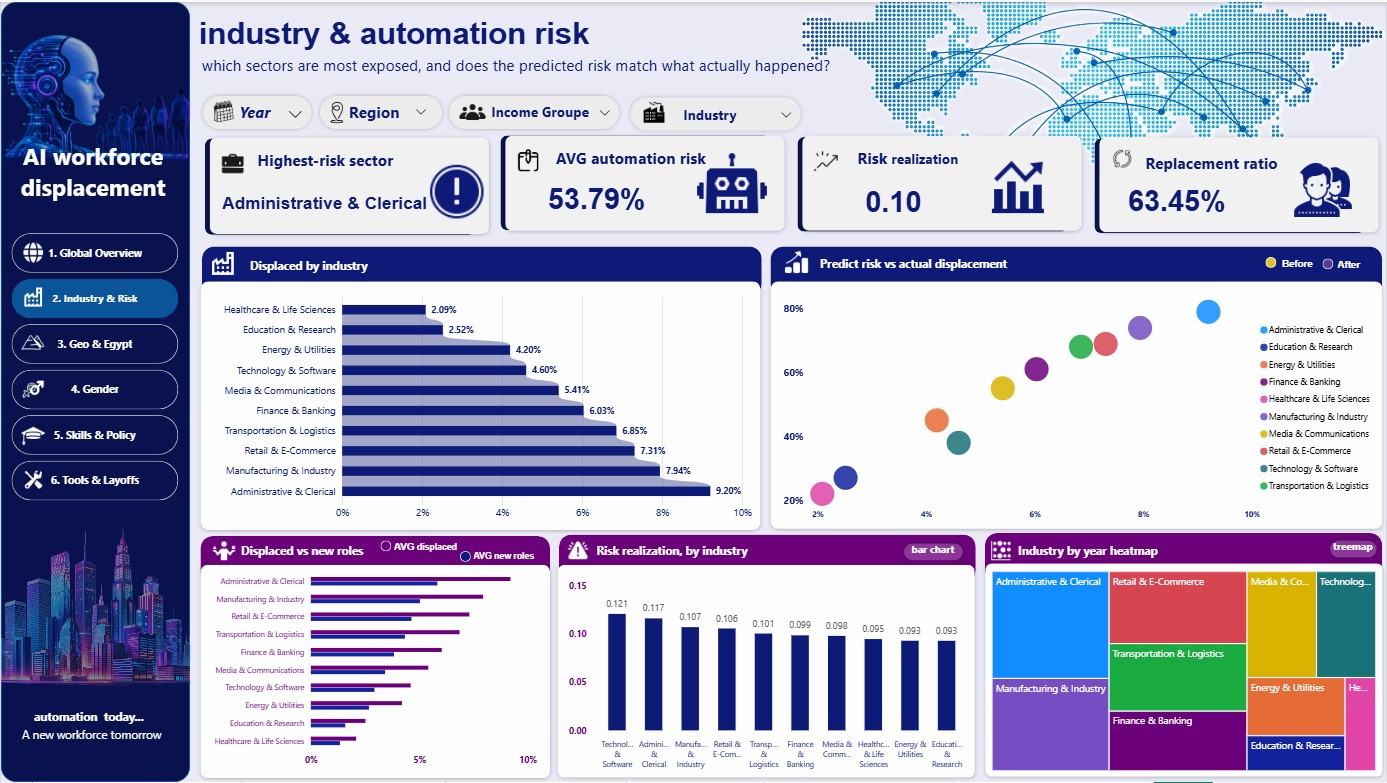

What the dashboard file says about the page in this screenshot:
{"tool":"powerbi","page":{"name":"2. Industry & Risk","canvas":[1920,1080],"ordinal":1},"visuals":[{"type":"shape","box":[282.6,188,374.6,133.3],"z":0},{"type":"shape","box":[692,185,374,131],"z":1000},{"type":"shape","box":[1102,186.1,374,131],"z":2000},{"type":"image","box":[1103,0,818,312.5],"z":3000},{"type":"shape","box":[1514,188.4,374,131],"z":4000},{"type":"shape","box":[0,0,261.7,1080],"z":5000},{"type":"textbox","box":[273.5,18.7,776.1,70.1],"z":6000},{"type":"shape","box":[274.4,124.4,161.1,56.7],"z":7000},{"type":"textbox","box":[278,73,958.2,46],"z":8000},{"type":"slicer","fields":{"Values":["year.year Hierarchy.year"]},"box":[295,132.5,133,44],"z":9000},{"type":"shape","box":[435.6,124.4,180,56.7],"z":10000},{"type":"image","box":[437.5,135,52.2,36.7],"z":11000},{"type":"slicer","fields":{"Values":["country.region"]},"box":[448.8,133.8,150,36.2],"z":12000},{"type":"shape","box":[615.6,124.4,246.7,56.7],"z":13000},{"type":"slicer","fields":{"Values":["country.income_group"]},"box":[656.7,135,196.7,36.7],"z":14000},{"type":"image","box":[627.5,133.8,51.1,36.7],"z":15000},{"type":"shape","box":[282,181.5,399.8,147.1],"z":16000},{"type":"textbox","box":[356.2,204.5,236.7,29.9],"z":17000},{"type":"image","box":[303.3,206.8,35,35],"z":18000},{"type":"shape","box":[691.7,179.2,399.8,144.8],"z":19000},{"type":"textbox","box":[767.5,202.2,222.9,32.2],"z":20000},{"type":"image","box":[712.3,204.5,35,35],"z":21000},{"type":"shape","box":[318.8,137.5,27.5,35],"z":22000},{"type":"cardVisual","fields":{"Data":["_Measures.Avg Automation Risk"]},"box":[712.3,229.8,225.2,82.7],"z":23000},{"type":"image","box":[272.5,133.8,73.3,37.8],"z":24000},{"type":"textbox","box":[330,137.5,50,30],"z":25000},{"type":"shape","box":[680,137.5,25,35],"z":26000},{"type":"shape","box":[473.8,135,31.2,35],"z":27000},{"type":"textbox","box":[482.5,137.5,77.5,28.8],"z":28000},{"type":"textbox","box":[678.8,140,138.9,28.9],"z":29000},{"type":"shape","box":[1103,179.2,400,144.8],"z":30000},{"type":"textbox","box":[1185.7,202.2,207.1,30],"z":31000},{"type":"image","box":[1123.7,204.5,35,35],"z":32000},{"type":"cardVisual","fields":{"Data":["_Measures.Risk Realization"]},"box":[1151.2,234.4,170,84.3],"z":33000},{"type":"shape","box":[1514.3,181.5,400,144.8],"z":34000},{"type":"image","box":[1534,199.9,35,35],"z":35000},{"type":"cardVisual","fields":{"Data":["_Measures.Replacement Ratio"]},"box":[1544.2,232.1,170,84.3],"z":36000},{"type":"textbox","box":[1585.5,206.8,197.6,29.9],"z":37000},{"type":"shape","box":[278,338,775,68],"z":38000},{"type":"image","box":[284.9,342.4,45.7,40],"z":39000},{"type":"textbox","box":[344,354,348.6,31.4],"z":40000},{"type":"shape","box":[271,380,788,357.5],"z":41000},{"type":"barChart","fields":{"Category":["sector.industry_sector"],"Y":["_Measures.Avg Displaced"]},"box":[280.3,386,775,351.6],"z":42000},{"type":"shape","box":[1066,338,847,69],"z":43000},{"type":"image","box":[1079.3,343,43,37],"z":44000},{"type":"textbox","box":[1133.3,352,348.6,31.4],"z":45000},{"type":"shape","box":[1060,380,860,356],"z":46000},{"type":"textbox","box":[1850,352.2,48.3,26.7],"z":47000},{"type":"shape","box":[1829.3,354.9,15,15],"z":48000},{"type":"textbox","box":[1773.2,351.8,46.4,21.4],"z":49000},{"type":"shape","box":[1750,353.6,15,15],"z":50000},{"type":"scatterChart","fields":{"Category":["sector.industry_sector"],"Series":["sector.industry_sector"],"Size":["CountNonNull(sector.sector_id)"],"X":["_Measures.Avg Displaced"],"Y":["_Measures.Avg Automation Risk"]},"box":[1066.7,388.3,853.3,348.3],"z":51000},{"type":"shape","box":[277.1,738.7,484,67.1],"z":52000},{"type":"image","box":[291.1,744.4,36,32],"z":53000},{"type":"textbox","box":[333.3,746.7,266.7,26.7],"z":54000},{"type":"shape","box":[270,771.7,496.7,308.3],"z":55000},{"type":"clusteredBarChart","fields":{"Category":["sector.industry_sector"],"Y":["_Measures.Avg Displaced","_Measures.Avg New Roles"]},"box":[270,765,488.3,315],"z":56000},{"type":"shape","box":[772.1,737.6,577,66.6],"z":57000},{"type":"image","box":[781.7,743.3,36,32],"z":58000},{"type":"textbox","box":[825,748.3,278.3,31.7],"z":59000},{"type":"shape","box":[765.2,772.1,590.6,307.9],"z":60000},{"type":"columnChart","fields":{"Category":["sector.industry_sector"],"Y":["_Measures.Risk Realization"]},"box":[769.8,772.1,588.3,307.9],"z":61000},{"type":"shape","box":[1363,736,550,68],"z":62000},{"type":"image","box":[1366,742.9,36,32],"z":63000},{"type":"textbox","box":[1408.6,747.1,348.6,31.4],"z":64000},{"type":"shape","box":[1837.1,742.9,68.9,27.8],"z":65000},{"type":"textbox","box":[1844.3,744.3,70,28.6],"z":66000},{"type":"image","box":[0,34.5,262,190.7],"z":67000},{"type":"textbox","box":[0,190.7,255.1,117.2],"z":68000},{"type":"textbox","box":[46,978.9,167.7,25.3],"z":69000},{"type":"textbox","box":[29.9,1004.2,203.3,33.3],"z":70000},{"type":"pageNavigator","box":[14.7,319.9,231.2,371.2],"z":71000},{"type":"image","box":[26.2,330.6,35,33],"z":72000},{"type":"image","box":[26.2,391.6,35,33],"z":73000},{"type":"image","box":[26.2,455.6,35,33],"z":74000},{"type":"image","box":[26.2,519.6,35,33],"z":75000},{"type":"image","box":[26.2,583.6,35,33],"z":76000},{"type":"image","box":[28.2,646.6,32,31],"z":77000},{"type":"image","box":[0,716.9,262,245.9],"z":78000},{"type":"shape","box":[866.1,126.8,246.7,56.7],"z":79000},{"type":"slicer","fields":{"Values":["sector.industry_sector"]},"box":[907.2,137.3,196.7,36.7],"z":80000},{"type":"image","box":[878,136.1,51.1,31],"z":81000},{"type":"shape","box":[930.5,139.8,25,35],"z":82000},{"type":"textbox","box":[944.4,142.5,138.9,28.9],"z":83000},{"type":"image","box":[579.5,222.2,103.4,80.4],"z":84000},{"type":"cardVisual","fields":{"Data":["_Measures.Top Risk Sector"]},"box":[276.2,234.7,344.7,85],"z":85000},{"type":"image","box":[949,206.8,126.4,96.5],"z":86000},{"type":"image","box":[1332.8,206.8,149.4,96.5],"z":87000},{"type":"image","box":[1767.1,211.4,126.4,96.5],"z":88000},{"type":"textbox","box":[545,743.3,96.7,23.3],"z":89000},{"type":"shape","box":[636,760.3,15,15],"z":90000},{"type":"textbox","box":[655,756.7,114.3,31.4],"z":91000},{"type":"shape","box":[525,745,15,15],"z":92000},{"type":"shape","box":[1248.3,746.7,85.7,27.1],"z":93000},{"type":"textbox","box":[1260,748.3,85,27.6],"z":94000},{"type":"shape","box":[1355.7,771.4,564.3,308.6],"z":95000},{"type":"treemap","fields":{"Group":["sector.industry_sector"],"Values":["_Measures.Avg Displaced"]},"box":[1355.7,774.4,563,305.6],"z":96000}]}

Visuals, with their boxes on the page's 1920x1080 design canvas (x1, y1, x2, y2). These are canvas units, not pixel positions in the 1387x783 screenshot, which may show the page scaled, cropped or inside an application window:
shape: bbox=[283, 188, 657, 321]
shape: bbox=[692, 185, 1066, 316]
shape: bbox=[1102, 186, 1476, 317]
image: bbox=[1103, 0, 1921, 312]
shape: bbox=[1514, 188, 1888, 319]
shape: bbox=[0, 0, 262, 1080]
textbox: bbox=[274, 19, 1050, 89]
shape: bbox=[274, 124, 436, 181]
textbox: bbox=[278, 73, 1236, 119]
slicer - year.year Hierarchy.year: bbox=[295, 132, 428, 176]
shape: bbox=[436, 124, 616, 181]
image: bbox=[438, 135, 490, 172]
slicer - country.region: bbox=[449, 134, 599, 170]
shape: bbox=[616, 124, 862, 181]
slicer - country.income_group: bbox=[657, 135, 853, 172]
image: bbox=[628, 134, 679, 170]
shape: bbox=[282, 182, 682, 329]
textbox: bbox=[356, 204, 593, 234]
image: bbox=[303, 207, 338, 242]
shape: bbox=[692, 179, 1092, 324]
textbox: bbox=[768, 202, 990, 234]
image: bbox=[712, 204, 747, 240]
shape: bbox=[319, 138, 346, 172]
cardVisual - _Measures.Avg Automation Risk: bbox=[712, 230, 938, 312]
image: bbox=[272, 134, 346, 172]
textbox: bbox=[330, 138, 380, 168]
shape: bbox=[680, 138, 705, 172]
shape: bbox=[474, 135, 505, 170]
textbox: bbox=[482, 138, 560, 166]
textbox: bbox=[679, 140, 818, 169]
shape: bbox=[1103, 179, 1503, 324]
textbox: bbox=[1186, 202, 1393, 232]
image: bbox=[1124, 204, 1159, 240]
cardVisual - _Measures.Risk Realization: bbox=[1151, 234, 1321, 319]
shape: bbox=[1514, 182, 1914, 326]
image: bbox=[1534, 200, 1569, 235]
cardVisual - _Measures.Replacement Ratio: bbox=[1544, 232, 1714, 316]
textbox: bbox=[1586, 207, 1783, 237]
shape: bbox=[278, 338, 1053, 406]
image: bbox=[285, 342, 331, 382]
textbox: bbox=[344, 354, 693, 385]
shape: bbox=[271, 380, 1059, 738]
barChart - sector.industry_sector x _Measures.Avg Displaced: bbox=[280, 386, 1055, 738]
shape: bbox=[1066, 338, 1913, 407]
image: bbox=[1079, 343, 1122, 380]
textbox: bbox=[1133, 352, 1482, 383]
shape: bbox=[1060, 380, 1920, 736]
textbox: bbox=[1850, 352, 1898, 379]
shape: bbox=[1829, 355, 1844, 370]
textbox: bbox=[1773, 352, 1820, 373]
shape: bbox=[1750, 354, 1765, 369]
scatterChart - sector.industry_sector x sector.industry_sector: bbox=[1067, 388, 1920, 737]
shape: bbox=[277, 739, 761, 806]
image: bbox=[291, 744, 327, 776]
textbox: bbox=[333, 747, 600, 773]
shape: bbox=[270, 772, 767, 1080]
clusteredBarChart - sector.industry_sector x _Measures.Avg Displaced: bbox=[270, 765, 758, 1080]
shape: bbox=[772, 738, 1349, 804]
image: bbox=[782, 743, 818, 775]
textbox: bbox=[825, 748, 1103, 780]
shape: bbox=[765, 772, 1356, 1080]
columnChart - sector.industry_sector x _Measures.Risk Realization: bbox=[770, 772, 1358, 1080]
shape: bbox=[1363, 736, 1913, 804]
image: bbox=[1366, 743, 1402, 775]
textbox: bbox=[1409, 747, 1757, 778]
shape: bbox=[1837, 743, 1906, 771]
textbox: bbox=[1844, 744, 1914, 773]
image: bbox=[0, 34, 262, 225]
textbox: bbox=[0, 191, 255, 308]
textbox: bbox=[46, 979, 214, 1004]
textbox: bbox=[30, 1004, 233, 1038]
pageNavigator: bbox=[15, 320, 246, 691]
image: bbox=[26, 331, 61, 364]
image: bbox=[26, 392, 61, 425]
image: bbox=[26, 456, 61, 489]
image: bbox=[26, 520, 61, 553]
image: bbox=[26, 584, 61, 617]
image: bbox=[28, 647, 60, 678]
image: bbox=[0, 717, 262, 963]
shape: bbox=[866, 127, 1113, 184]
slicer - sector.industry_sector: bbox=[907, 137, 1104, 174]
image: bbox=[878, 136, 929, 167]
shape: bbox=[930, 140, 956, 175]
textbox: bbox=[944, 142, 1083, 171]
image: bbox=[580, 222, 683, 303]
cardVisual - _Measures.Top Risk Sector: bbox=[276, 235, 621, 320]
image: bbox=[949, 207, 1075, 303]
image: bbox=[1333, 207, 1482, 303]
image: bbox=[1767, 211, 1894, 308]
textbox: bbox=[545, 743, 642, 767]
shape: bbox=[636, 760, 651, 775]
textbox: bbox=[655, 757, 769, 788]
shape: bbox=[525, 745, 540, 760]
shape: bbox=[1248, 747, 1334, 774]
textbox: bbox=[1260, 748, 1345, 776]
shape: bbox=[1356, 771, 1920, 1080]
treemap - sector.industry_sector x _Measures.Avg Displaced: bbox=[1356, 774, 1919, 1080]
